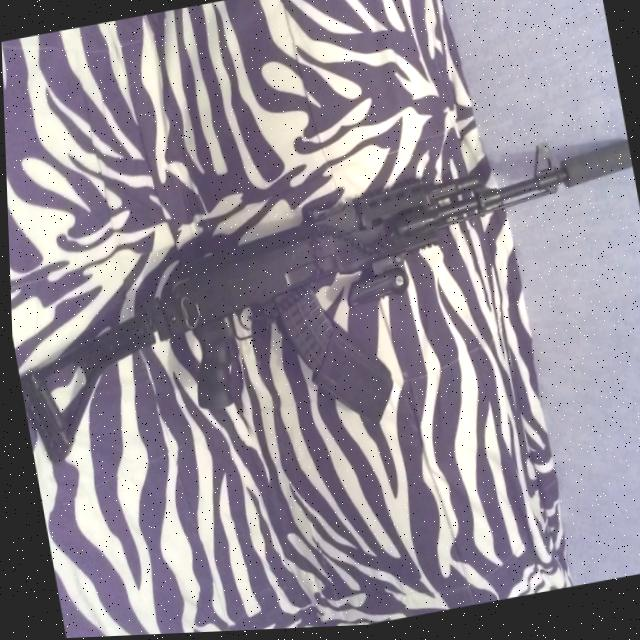firearm: (4, 131, 640, 484)
